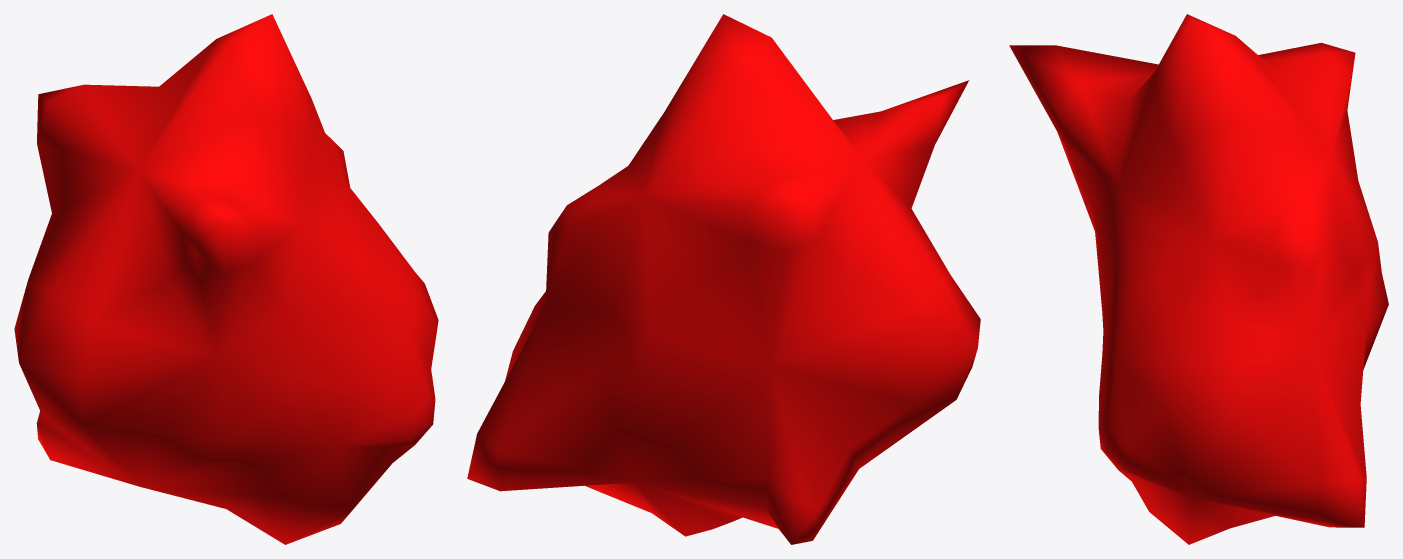
File: mysor 3.fbx
3 renders of one model, left to right at view 1: azimuth 30°, elevation 25°; view 2: azimuth 150°, elevation 25°; view 3: azimuth 270°, elevation 25°, orthographic. The views are drawn at different scales.
Parts seen in each view (by area): view 1: Куб.002; view 2: Куб.002; view 3: Куб.002.
Boxes of the visible parts, box(x1,y1,x2,y2) form: Куб.002: box(14, 14, 438, 544); Куб.002: box(467, 14, 980, 544); Куб.002: box(1009, 14, 1388, 544).
Bounding box in the file's own units: 290 × 341 × 234.
